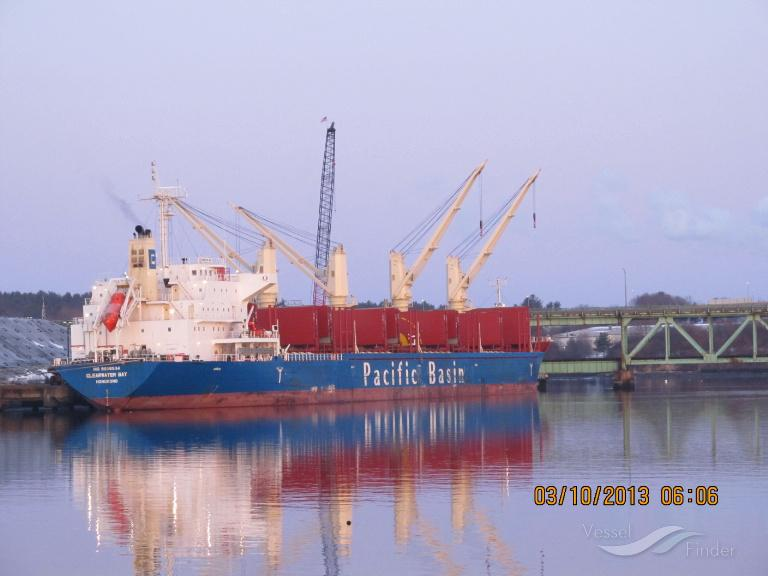OCR: (360, 356, 470, 393), (82, 363, 130, 389)
